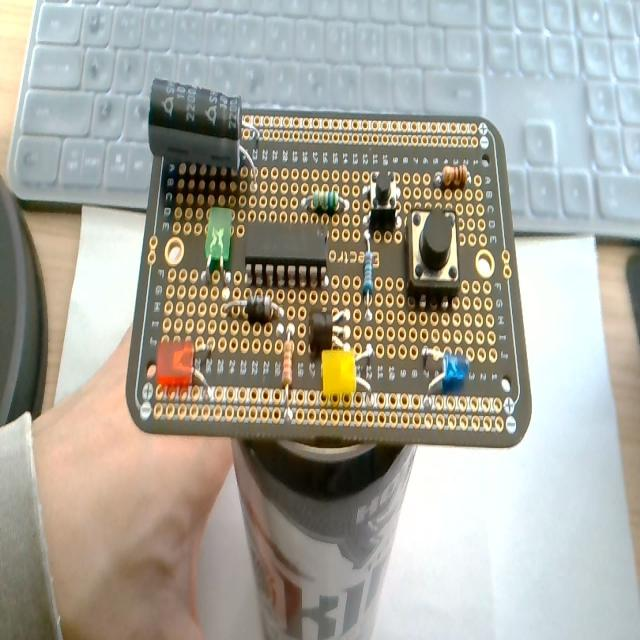Electrolytic capacitor: (146, 79, 258, 178)
IC: (243, 214, 330, 288)
diode: (223, 291, 286, 321)
led: (154, 326, 216, 412), (200, 204, 236, 278), (420, 342, 469, 390), (320, 348, 357, 403)
resistor: (302, 188, 349, 214), (435, 165, 470, 190), (362, 231, 375, 297)
switch: (408, 206, 460, 298), (367, 172, 400, 230)
transistor: (308, 310, 353, 353)
